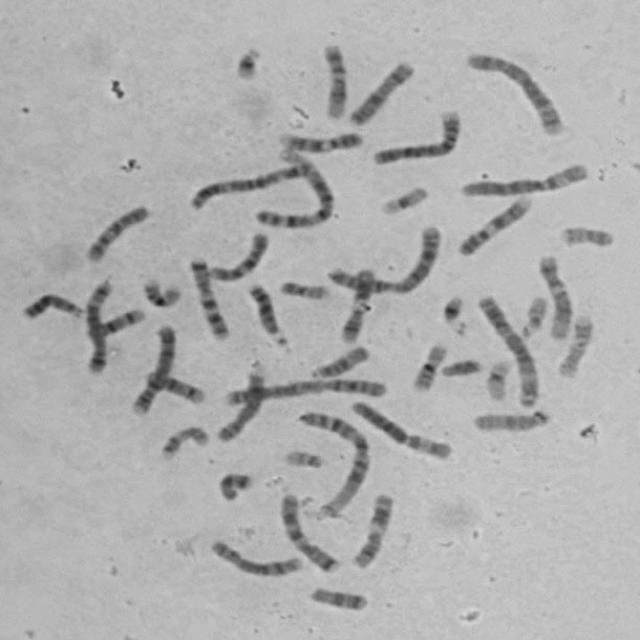A1: (292, 406, 374, 520), (247, 155, 339, 231)
A2: (320, 220, 444, 296), (220, 373, 390, 406)
A3: (472, 290, 543, 410), (182, 158, 314, 212)
B4: (367, 105, 464, 167), (125, 320, 178, 418)
B5: (462, 46, 568, 138), (80, 275, 118, 376)
C10: (81, 200, 153, 265), (204, 228, 272, 282)
C11: (346, 488, 397, 572), (334, 264, 380, 346)
C12: (533, 250, 576, 342), (317, 38, 350, 122)
C6: (346, 396, 456, 463), (455, 158, 593, 200)
C7: (275, 489, 343, 575), (183, 254, 230, 341)
C8: (213, 364, 269, 444), (205, 535, 306, 579)
C9: (453, 192, 535, 258), (273, 126, 366, 155)
D13: (242, 278, 291, 349), (18, 287, 87, 323)
D14: (140, 366, 208, 406), (83, 304, 148, 339)
D15: (304, 340, 372, 381), (469, 404, 554, 434)
E16: (406, 339, 449, 394), (138, 274, 185, 310)
E17: (553, 310, 596, 379), (155, 421, 212, 462)
E18: (304, 582, 370, 614), (214, 468, 256, 503)
F19: (376, 181, 431, 217), (482, 354, 515, 402)
F20: (554, 220, 617, 250), (275, 276, 331, 302)
G21: (229, 41, 264, 83), (437, 290, 469, 332)
G22: (516, 291, 551, 340), (279, 445, 327, 471)
X: (343, 57, 418, 128)
Y: (436, 354, 484, 379)
